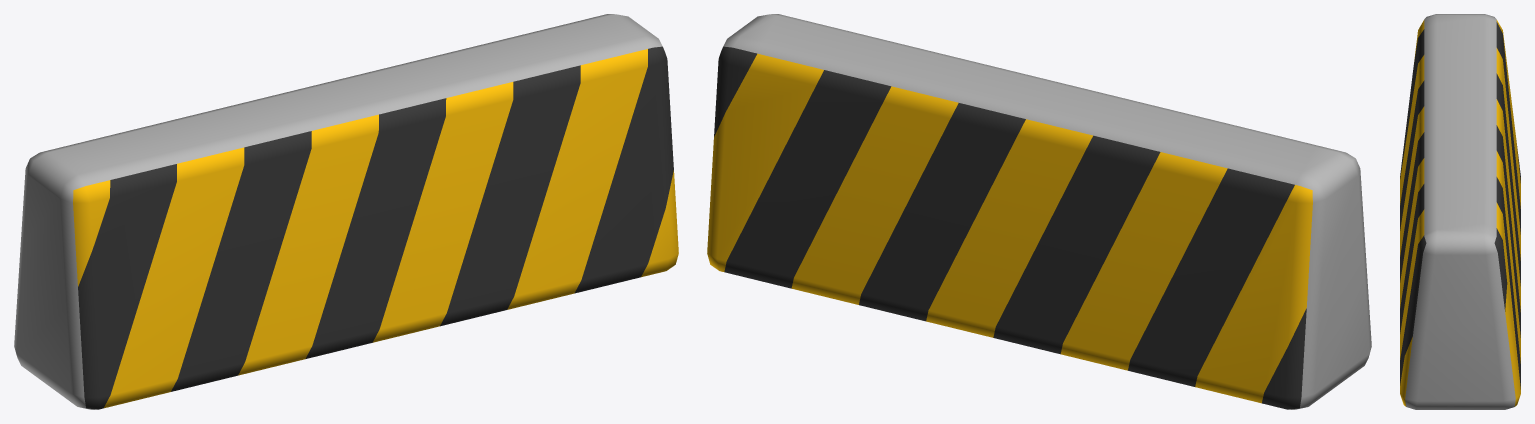
The model's file is obstacle_13_001.fbx.
3 views of the same model, side by side, from view 1: azimuth 30°, elevation 25°; view 2: azimuth 150°, elevation 25°; view 3: azimuth 270°, elevation 25° (orthographic). The views are drawn at different scales.
Parts seen in each view (by area): view 1: obstacle_13_001; view 2: obstacle_13_001; view 3: obstacle_13_001.
Boxes of the visible parts, x1,y1,x2,y2 form: obstacle_13_001: [14, 14, 678, 409]; obstacle_13_001: [707, 14, 1371, 409]; obstacle_13_001: [1400, 14, 1520, 409].
Bounding box in the file's own units: 321 × 70.55 × 114.
